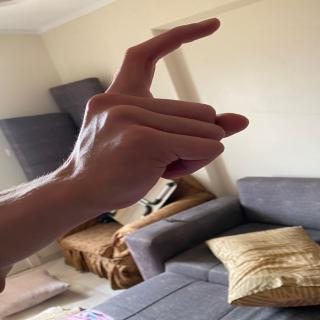RAA: (61, 17, 266, 186)
